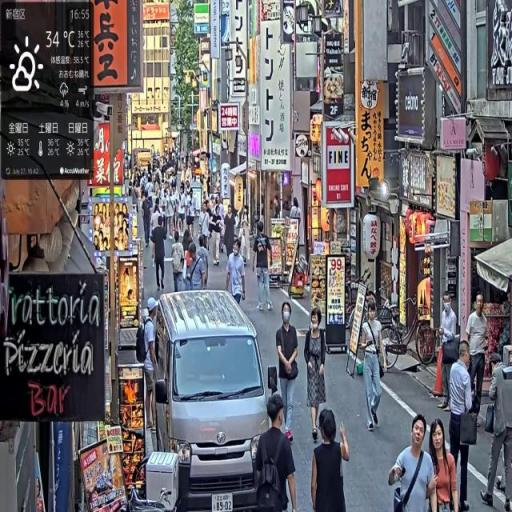person: (251, 390, 297, 512), (448, 340, 480, 512), (480, 352, 512, 512), (390, 414, 438, 512), (311, 408, 352, 512), (360, 299, 387, 432), (304, 308, 329, 448), (276, 304, 301, 440), (139, 296, 162, 443), (465, 292, 491, 420), (433, 292, 460, 409), (428, 418, 460, 512), (253, 231, 275, 316), (226, 237, 247, 306), (152, 213, 168, 294), (171, 232, 186, 294), (195, 236, 211, 292)
